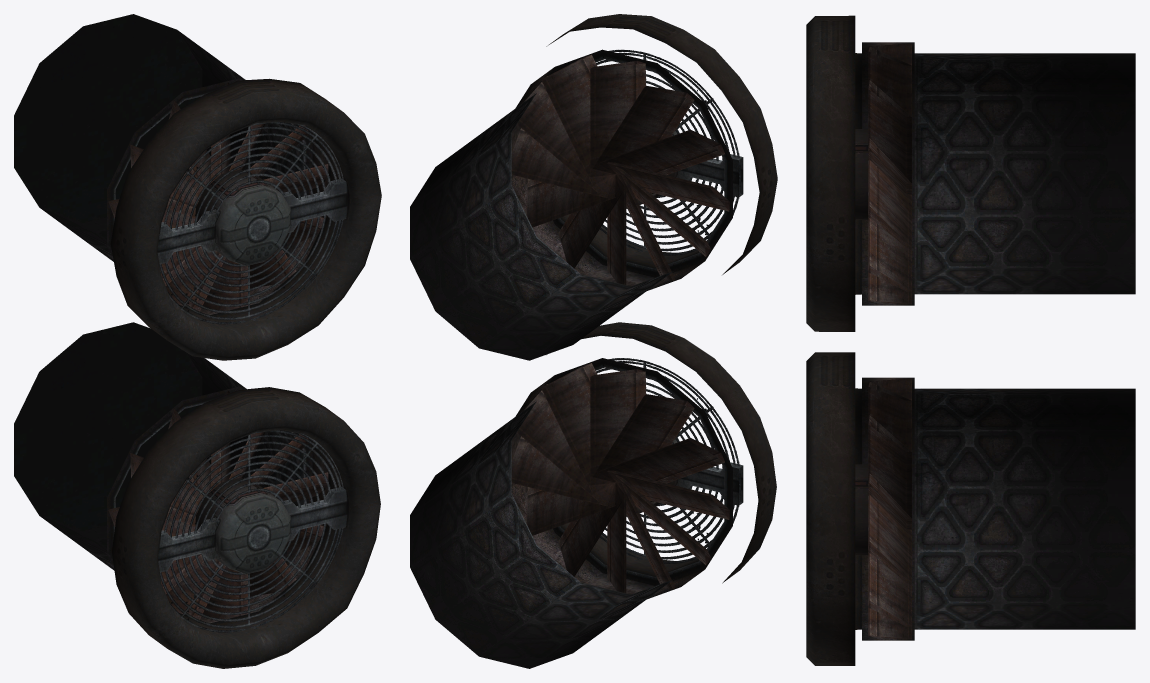
The model's file is fan_addon_wall.dae.
The picture shows the model from 3 angles, left to right: view 1: azimuth 30°, elevation 25°; view 2: azimuth 150°, elevation 25°; view 3: azimuth 270°, elevation 25°; orthographic projection. The views are drawn at different scales.
Parts seen in each view (by area): view 1: double_fan, grate_double, fan_top, fan_bottom; view 2: double_fan, fan_top, fan_bottom, grate_double; view 3: double_fan, fan_top, fan_bottom.
Boxes of the visible parts, <box> form: double_fan: <box>14,14,381,668</box>; grate_double: <box>159,122,343,632</box>; fan_top: <box>108,82,328,311</box>; fan_bottom: <box>108,390,328,619</box>; double_fan: <box>410,14,777,668</box>; fan_top: <box>511,54,729,284</box>; fan_bottom: <box>511,363,729,593</box>; grate_double: <box>596,49,740,563</box>; double_fan: <box>806,15,1135,665</box>; fan_top: <box>868,43,911,304</box>; fan_bottom: <box>868,378,911,639</box>.
Size of the model in its own units: 1.04 by 2.26 by 1.08.
Materials: 2 (2 with a texture image).
